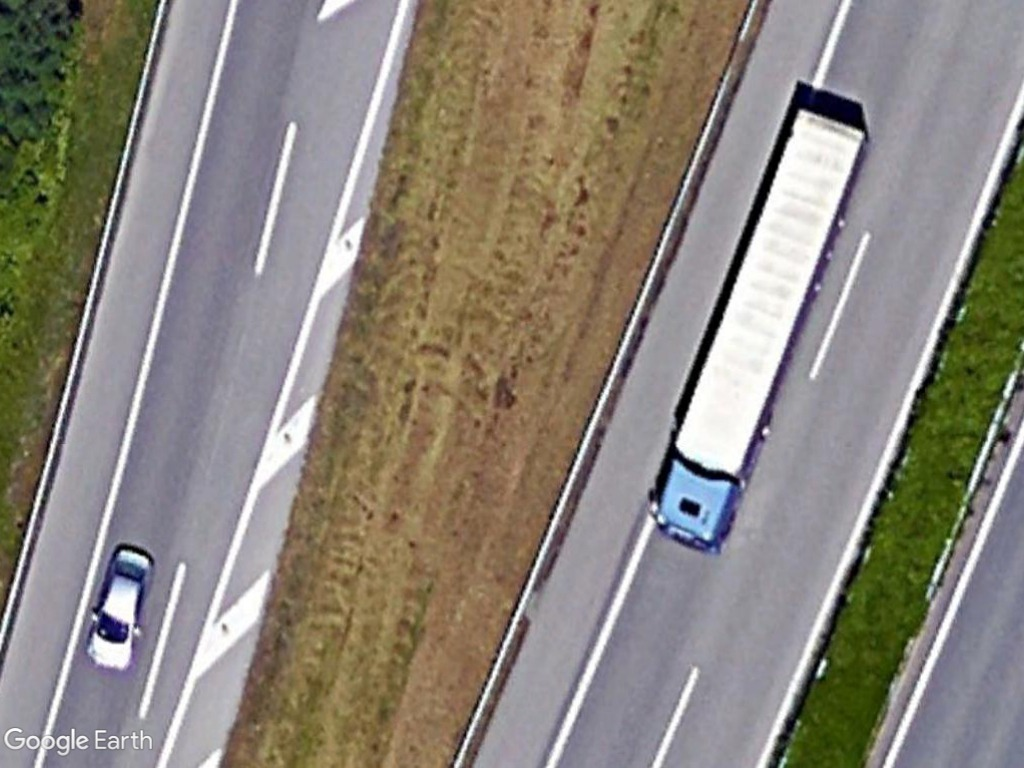car: (82, 539, 155, 676)
longvehicle: (645, 102, 873, 557)
